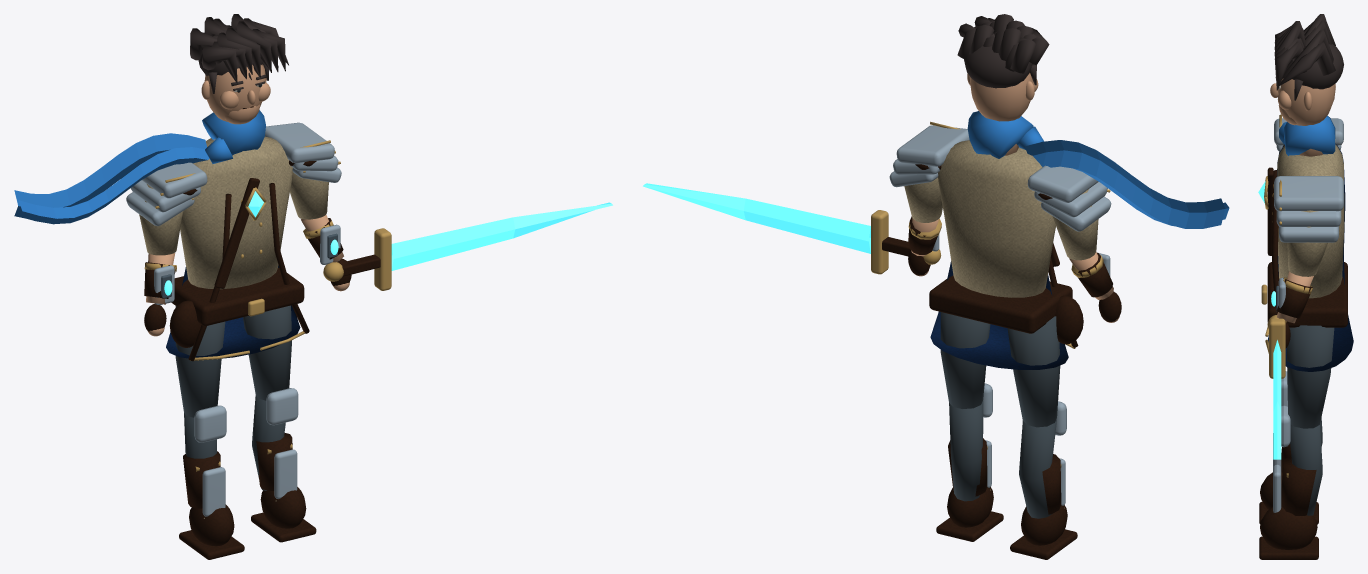
The model's file is kael-v3.glb.
3 renders of one model, left to right at view 1: azimuth 30°, elevation 25°; view 2: azimuth 150°, elevation 25°; view 3: azimuth 270°, elevation 25°, orthographic. The views are drawn at different scales.
Parts seen in each view (by area): view 1: Linen shirt, Scarf collar, Calf.001, Calf, Sword grip, Trouser thigh.001, Trouser thigh, Forearm, Forearm.001, Soft linen sleeve.001, Soft linen sleeve; view 2: Linen shirt, Scarf collar, Sword grip, Calf, Calf.001, Trouser thigh, Trouser thigh.001, Forearm, Forearm.001, Soft linen sleeve.001, Soft linen sleeve; view 3: Linen shirt, Calf.001, Trouser thigh.001, Sword grip, Scarf collar, Forearm.001, Soft linen sleeve.001, Calf.
Boxes of the visible parts, x1=… form: Linen shirt: x1=126, y1=14, x2=341, y2=361; Scarf collar: x1=14, y1=110, x2=265, y2=224; Calf.001: x1=251, y1=388, x2=316, y2=542; Calf: x1=179, y1=405, x2=244, y2=559; Sword grip: x1=323, y1=202, x2=612, y2=290; Trouser thigh.001: x1=243, y1=305, x2=291, y2=400; Trouser thigh: x1=175, y1=306, x2=225, y2=417; Forearm: x1=144, y1=253, x2=176, y2=336; Forearm.001: x1=301, y1=215, x2=351, y2=291; Soft linen sleeve.001: x1=290, y1=168, x2=328, y2=219; Soft linen sleeve: x1=139, y1=184, x2=183, y2=255; Linen shirt: x1=889, y1=14, x2=1111, y2=369; Scarf collar: x1=967, y1=111, x2=1229, y2=228; Sword grip: x1=643, y1=183, x2=941, y2=274; Calf: x1=1010, y1=401, x2=1077, y2=559; Calf.001: x1=936, y1=383, x2=1003, y2=541; Trouser thigh: x1=1007, y1=316, x2=1060, y2=427; Trouser thigh.001: x1=940, y1=312, x2=990, y2=408; Forearm: x1=1069, y1=252, x2=1121, y2=322; Forearm.001: x1=908, y1=216, x2=941, y2=276; Soft linen sleeve.001: x1=904, y1=177, x2=942, y2=222; Soft linen sleeve: x1=1052, y1=189, x2=1098, y2=260; Linen shirt: x1=1258, y1=14, x2=1353, y2=371; Calf.001: x1=1259, y1=405, x2=1322, y2=559; Trouser thigh.001: x1=1287, y1=325, x2=1334, y2=428; Sword grip: x1=1267, y1=315, x2=1286, y2=459; Scarf collar: x1=1279, y1=115, x2=1335, y2=155; Forearm.001: x1=1271, y1=271, x2=1313, y2=348; Soft linen sleeve.001: x1=1287, y1=210, x2=1327, y2=276; Calf: x1=1259, y1=371, x2=1322, y2=524.
Bounding box in the file's own units: 2 × 1.69 × 0.288.
Materials: 13 (3 with a texture image).
